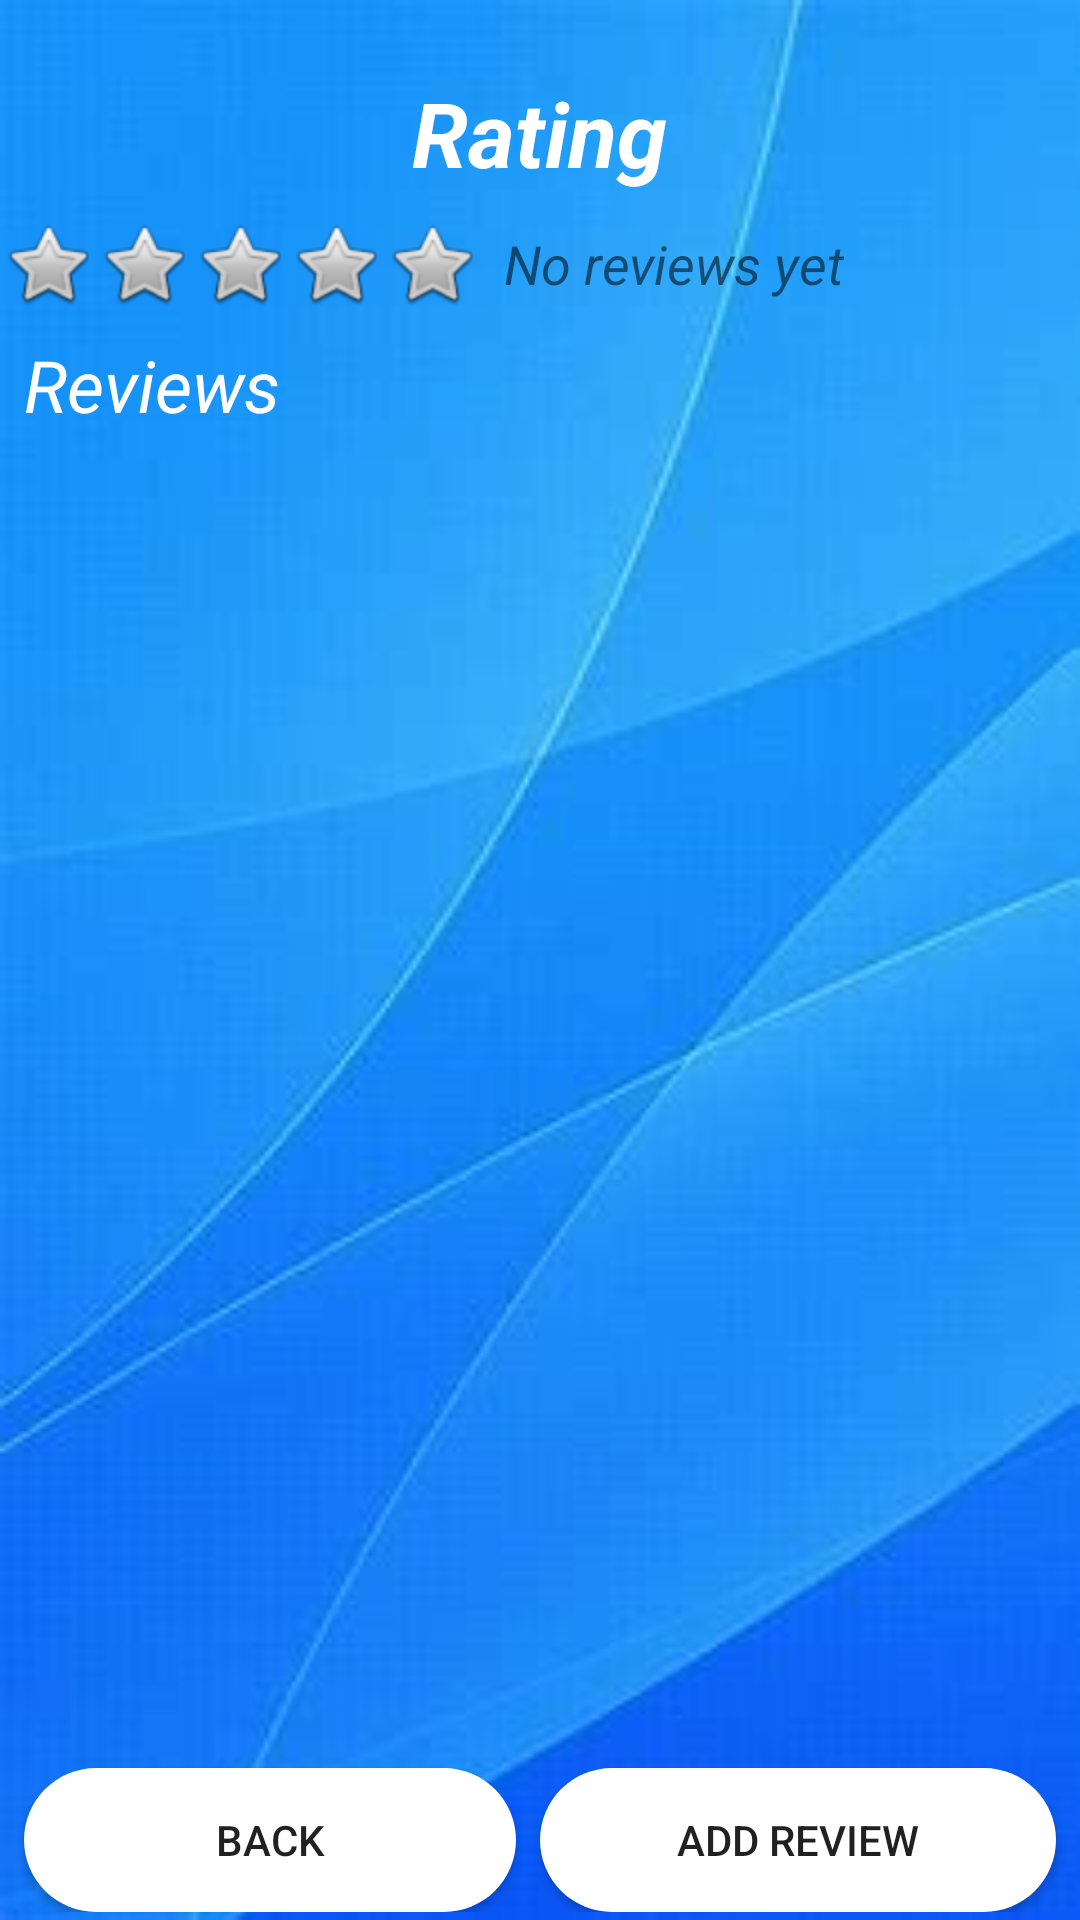

Screen size 1080*1920. Icon name, then its center in pixels as [x,y]:
star off: [49,265], [145,265], [241,265], [337,265], [433,265]
